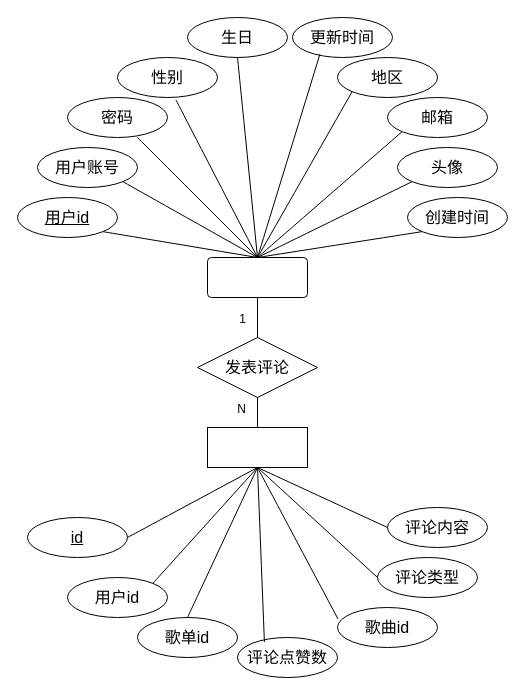
The diagram is 525 pixels wide and 695 high, and some of its shapes have lost their labels. Each missing label, with the centre of its shape:
"用户实体consumer" goes at [257,277].
"评论实体comment" goes at [257,447].
